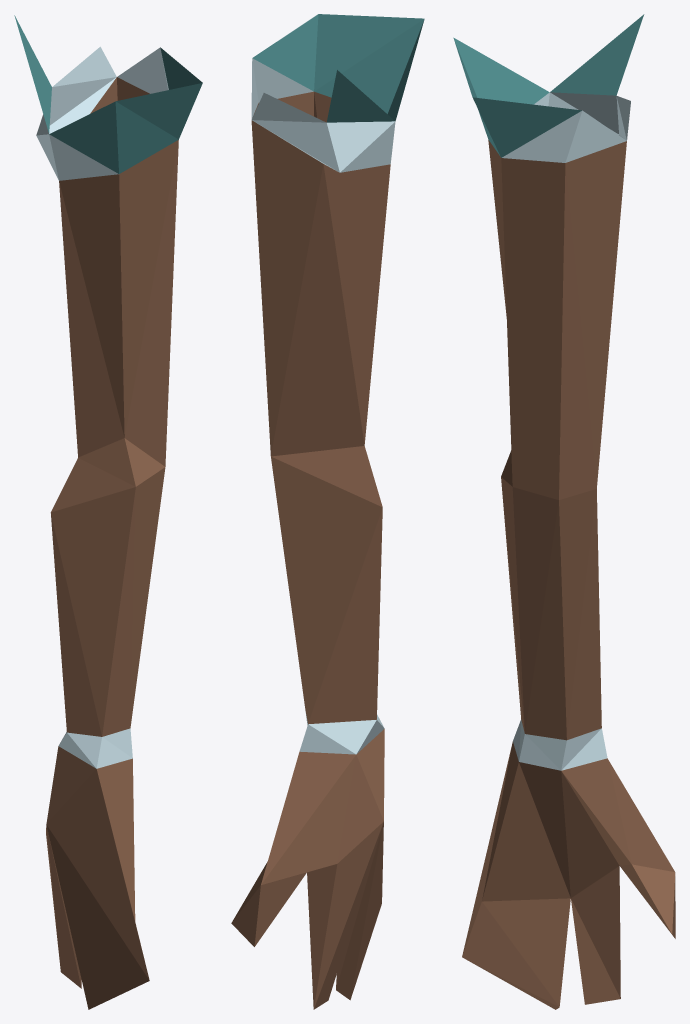
Rendered from ArmL.obj.
3 views of the same model, side by side, from view 1: azimuth 30°, elevation 25°; view 2: azimuth 150°, elevation 25°; view 3: azimuth 270°, elevation 25° (orthographic).
Size of the model in its own units: 0.1223 by 0.8781 by 0.1804.
Materials: 1 (1 with a texture image).
